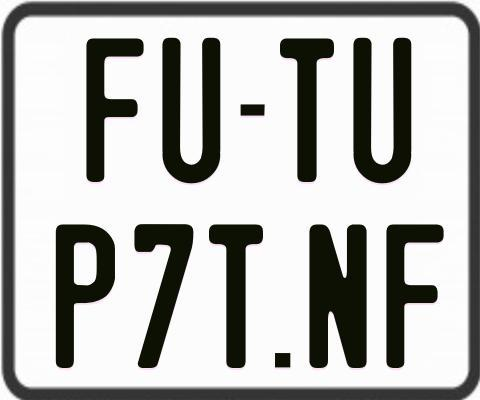7: (133, 224, 192, 369)
F: (383, 224, 447, 373), (84, 38, 142, 183)
N: (309, 222, 367, 370)
P: (55, 223, 120, 370)
T: (208, 225, 266, 373), (277, 36, 334, 180)
U: (159, 37, 219, 188), (352, 36, 412, 184)
